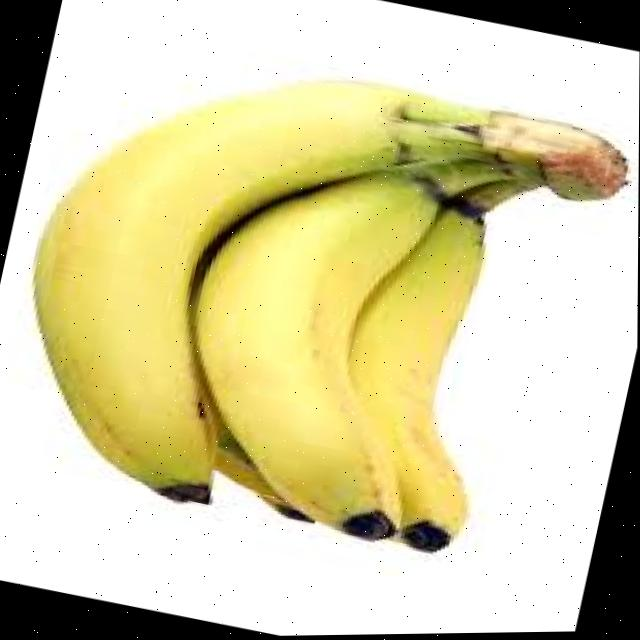Banana: (36, 84, 408, 502), (195, 175, 437, 539), (349, 209, 483, 553)
